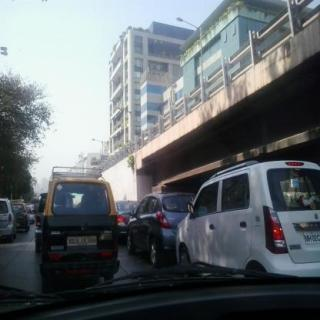Normal_vehicle: (39, 167, 119, 292)
